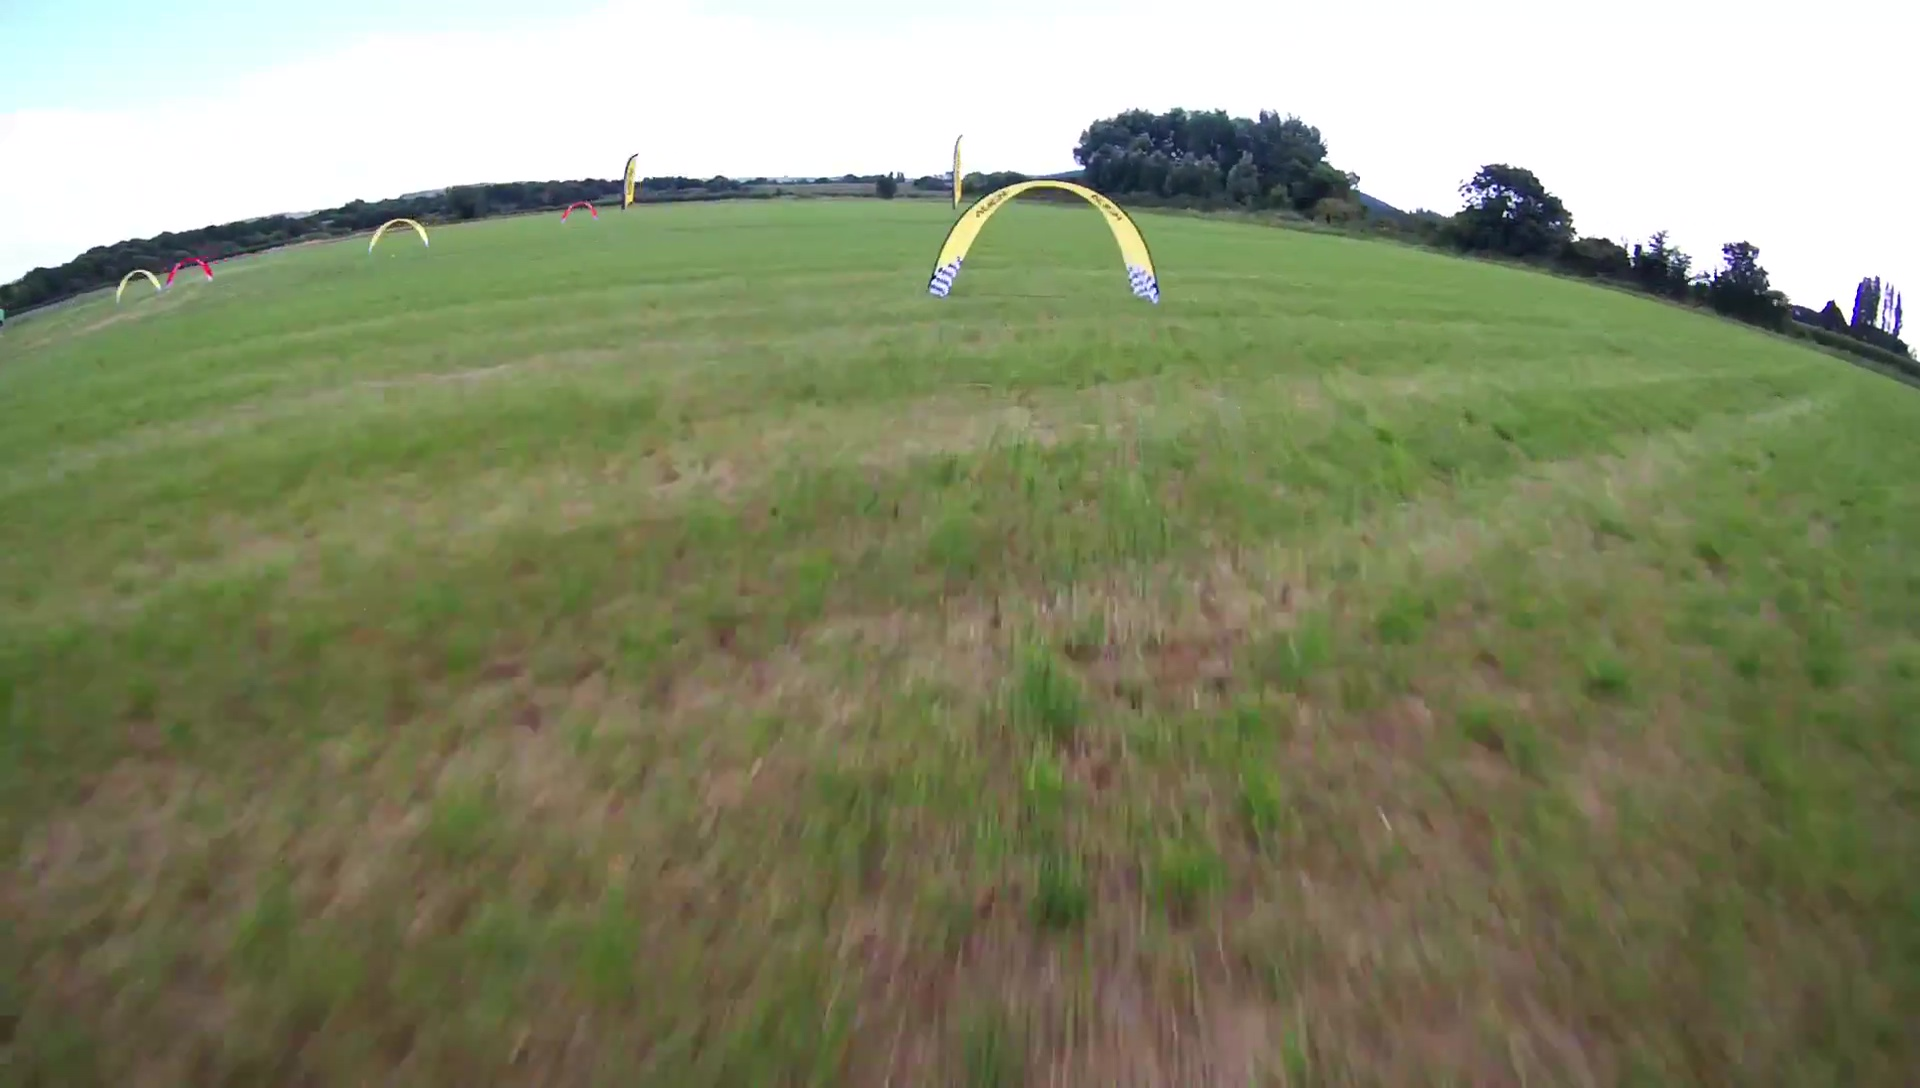gate: (928, 179, 1164, 302), (367, 218, 435, 256), (113, 269, 164, 303), (164, 256, 215, 289), (560, 199, 601, 222)
